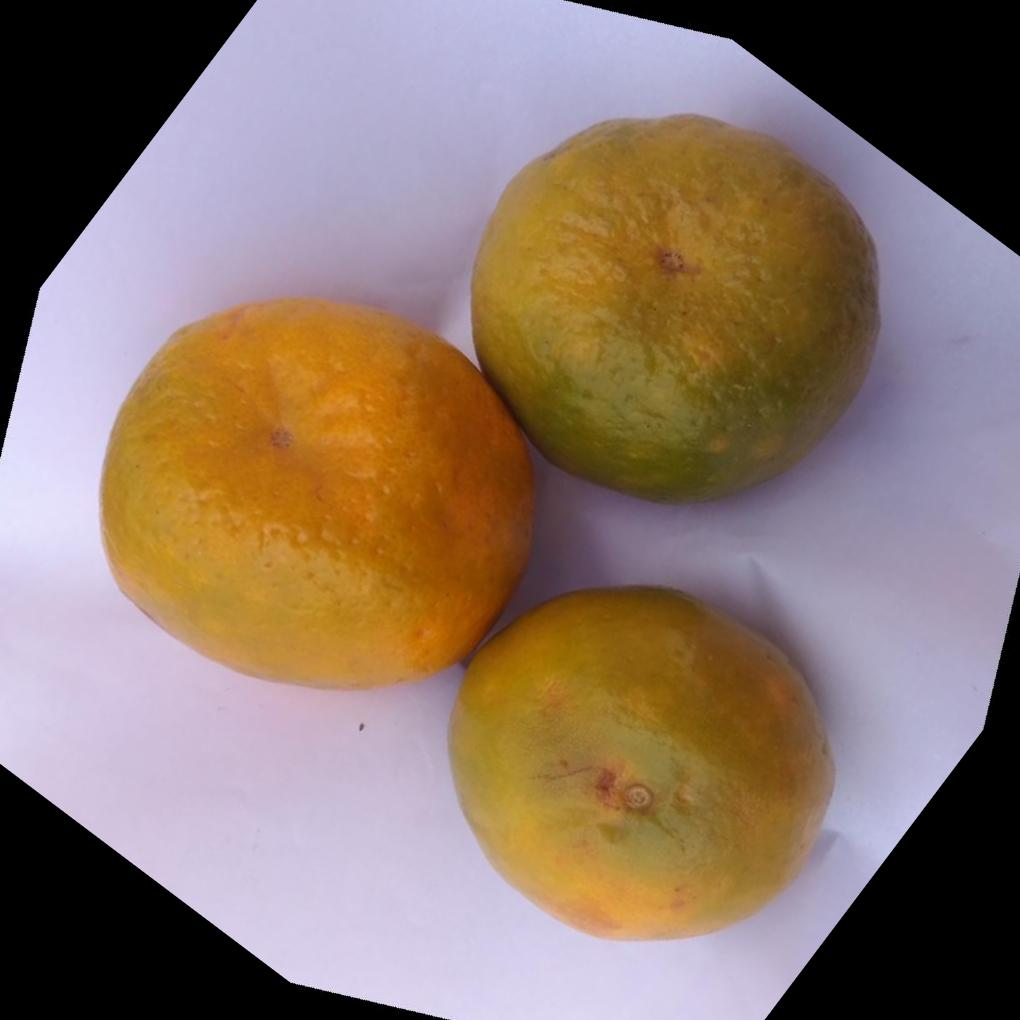FreshGuava: (99, 110, 885, 940)
